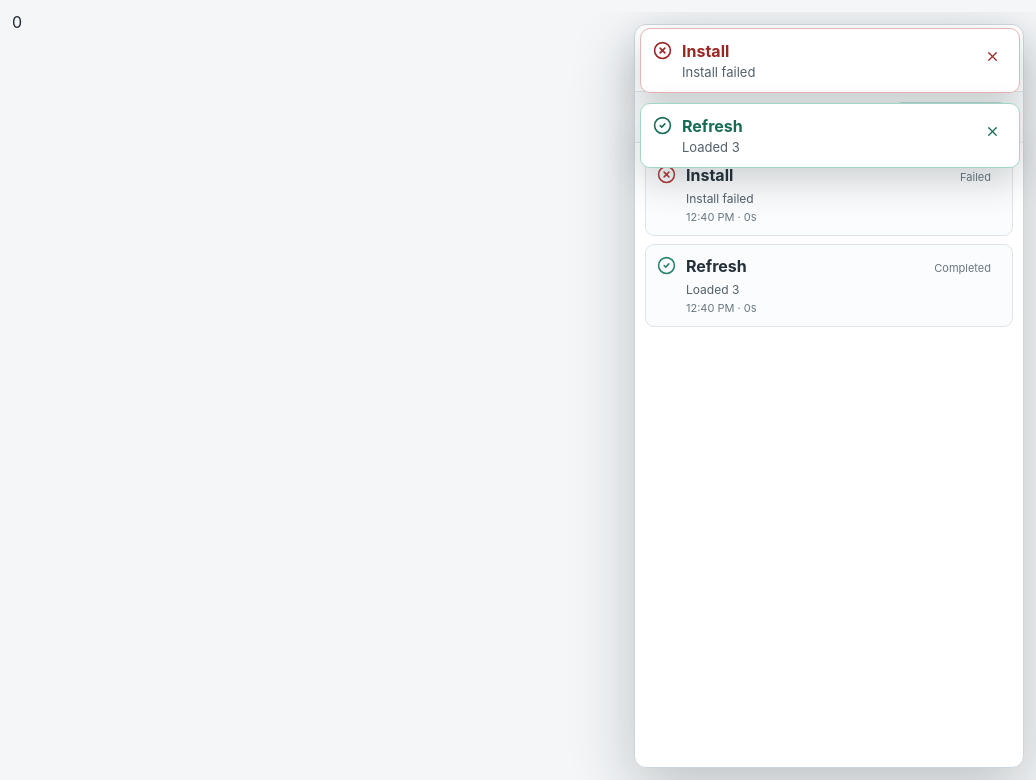
Test: TaskCenterProvider › records successful and failed tasks with accessible toasts
Check: the message "Install Install failed" is shown, box [640, 28, 1020, 93]
Check: the message "Refresh Loaded 3" is shown, box [640, 103, 1020, 168]
Click the 1st button named "Dismiss notification".
click(992, 56)  # box [977, 41, 1007, 71]
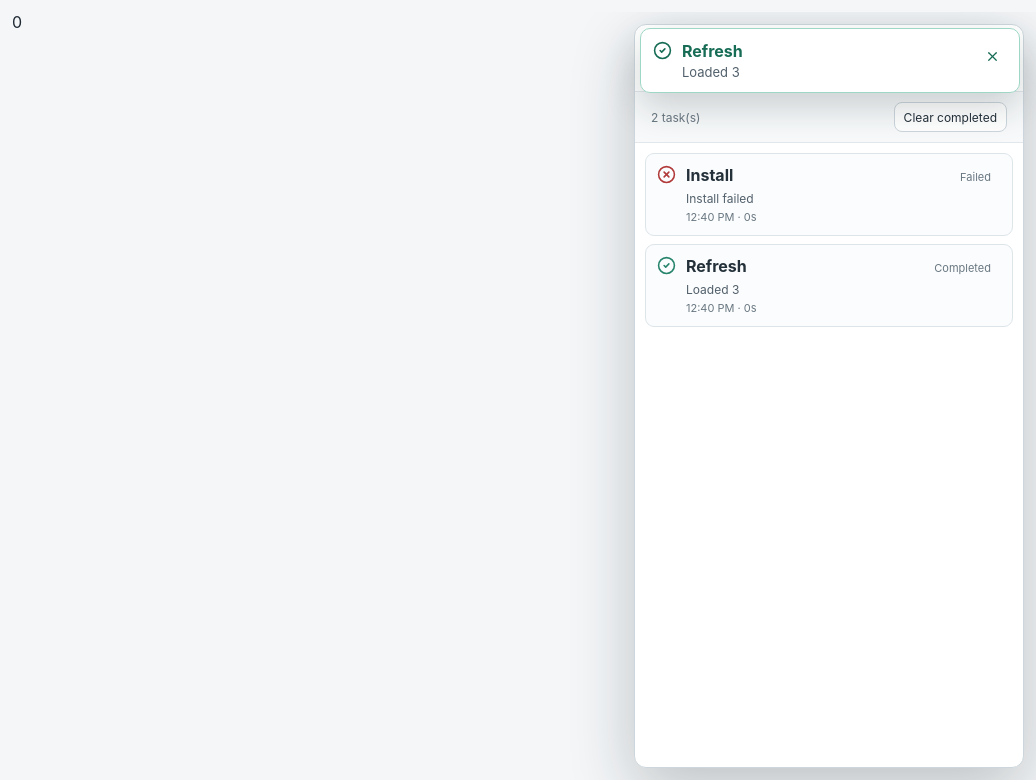
Check: the message "Install Install failed" is gone
